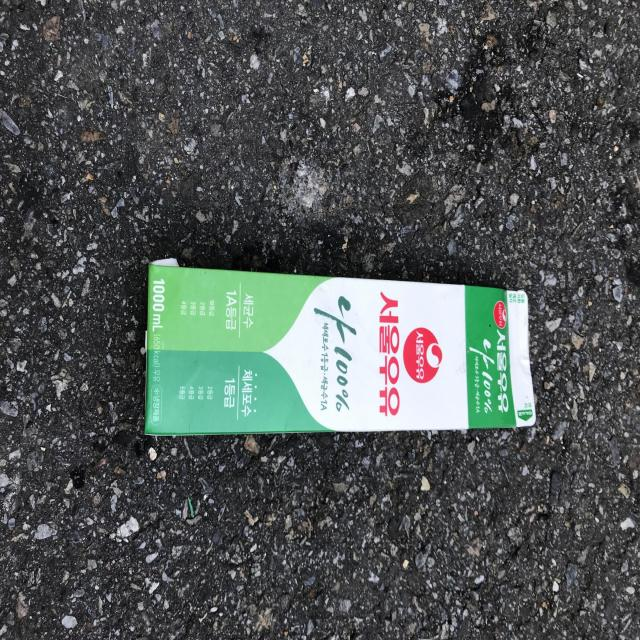paperpack: (145, 265, 537, 435)
